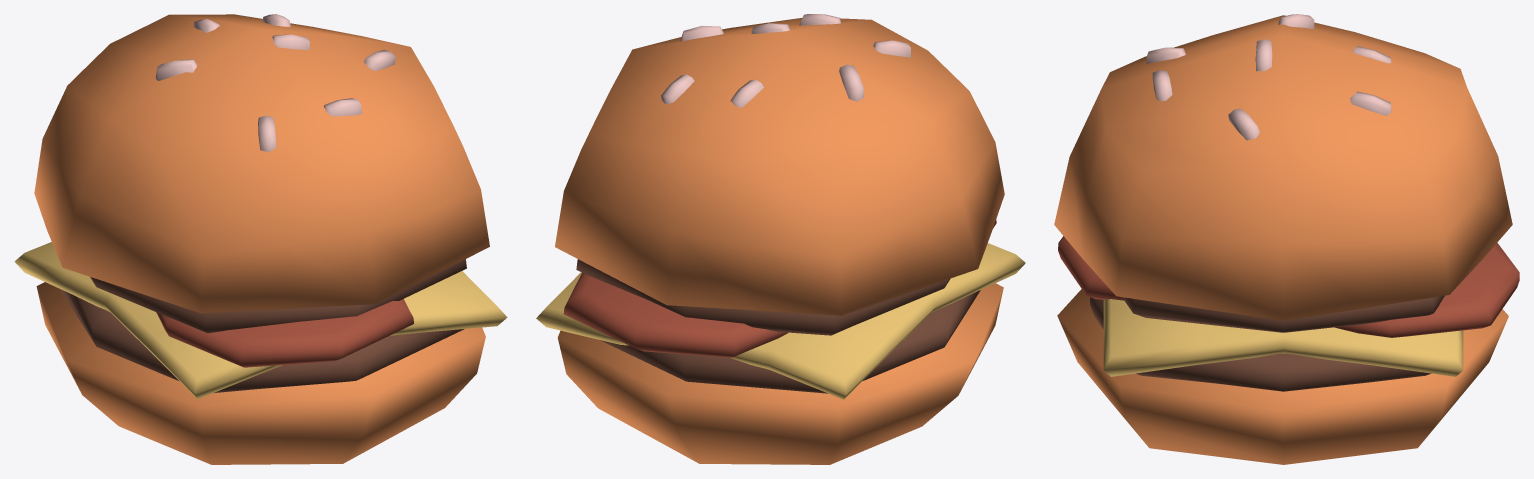
The model's file is props_burger.fbx.
3 views of the same model, side by side, from view 1: azimuth 30°, elevation 25°; view 2: azimuth 150°, elevation 25°; view 3: azimuth 270°, elevation 25° (orthographic).
Visible parts, largest first — view 1: props_burger; view 2: props_burger; view 3: props_burger.
Boxes of the visible parts, x1,y1,x2,y2 form: props_burger: (14,14,507,464); props_burger: (536,14,1025,464); props_burger: (1054,14,1519,464).
Bounding box in the file's own units: 0.4839 × 0.493 × 0.4412.
